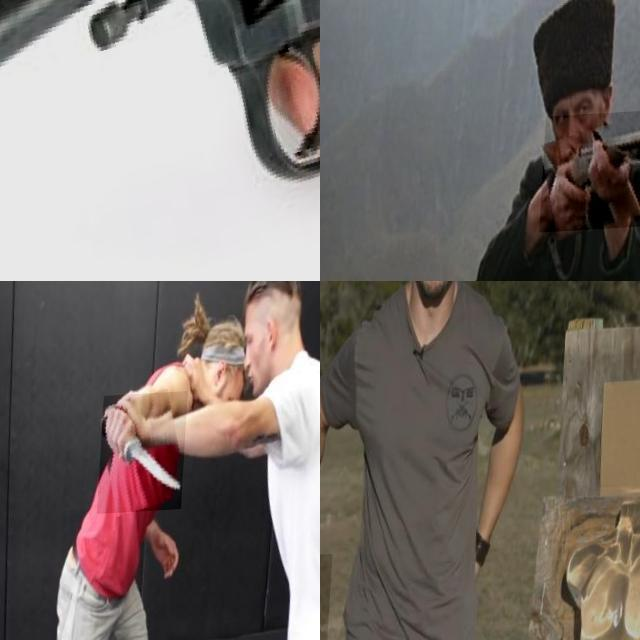-: (100, 394, 190, 516), (320, 556, 353, 640)
gun-knife-thesis - v11 Yolov5 augmented: (0, 0, 320, 281), (543, 113, 640, 236)
